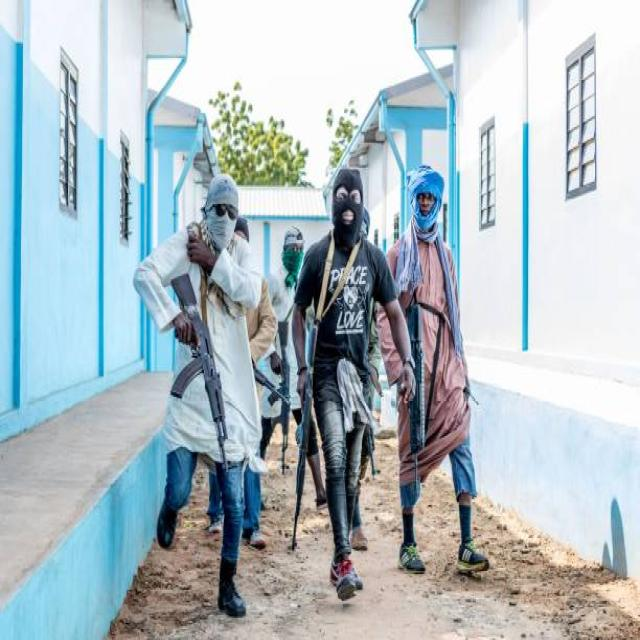terrorist: (133, 174, 261, 615), (291, 170, 413, 599), (388, 165, 486, 568)
